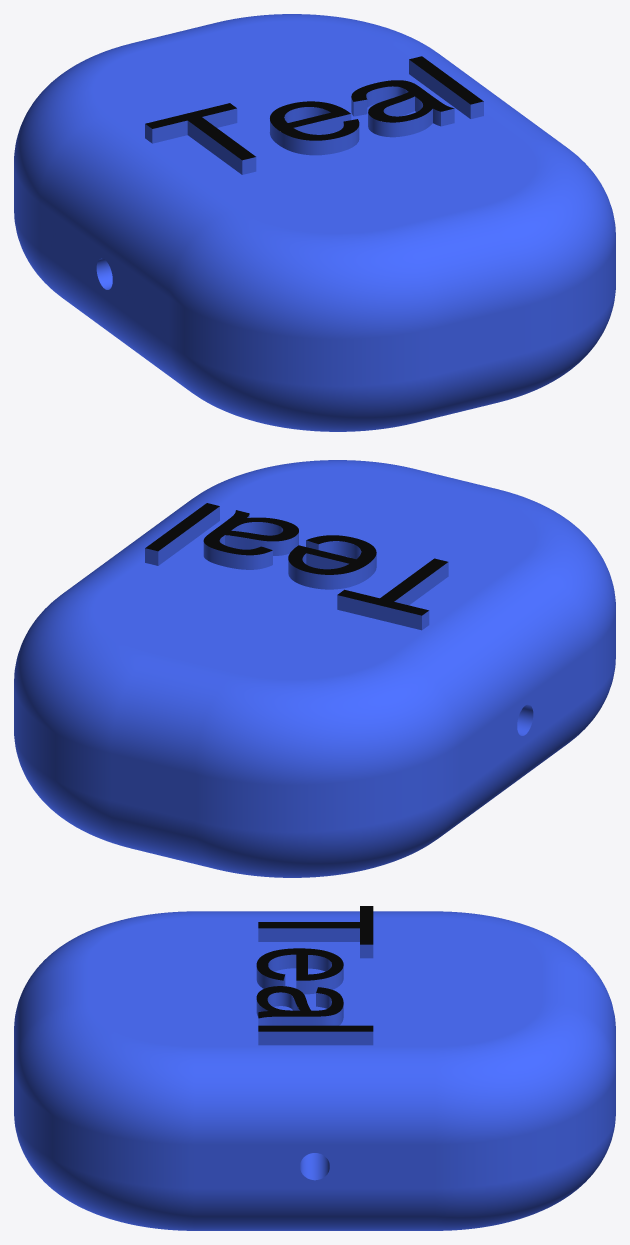
File: Teal.glb
The picture shows the model from 3 angles, top to bottom: view 1: azimuth 30°, elevation 25°; view 2: azimuth 150°, elevation 25°; view 3: azimuth 270°, elevation 25°; orthographic projection. The views are drawn at different scales.
Size of the model in its own units: 0.03 by 0.014 by 0.04.
